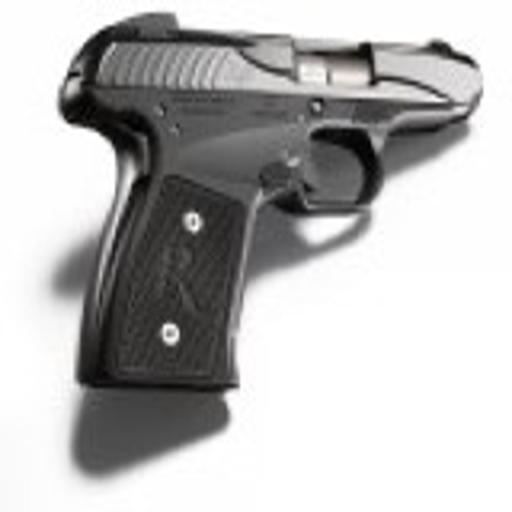Handgun: (53, 3, 482, 408)
